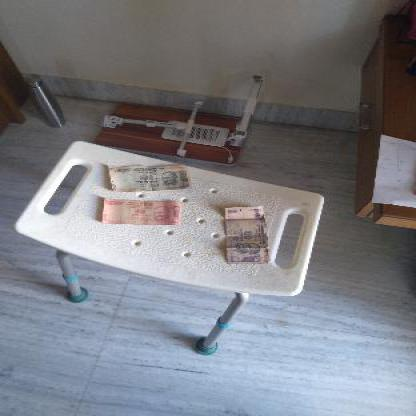Old100Front: (108, 167, 191, 190)
Old20Front: (103, 199, 180, 226)
Old50Front: (226, 207, 270, 263)
